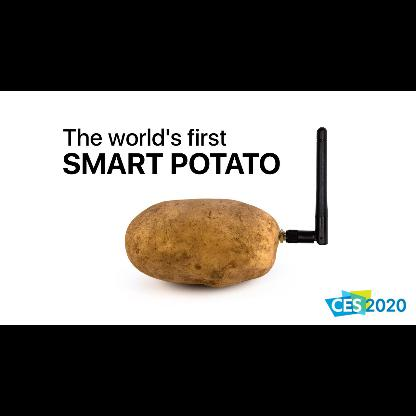potato: (124, 198, 280, 288)
